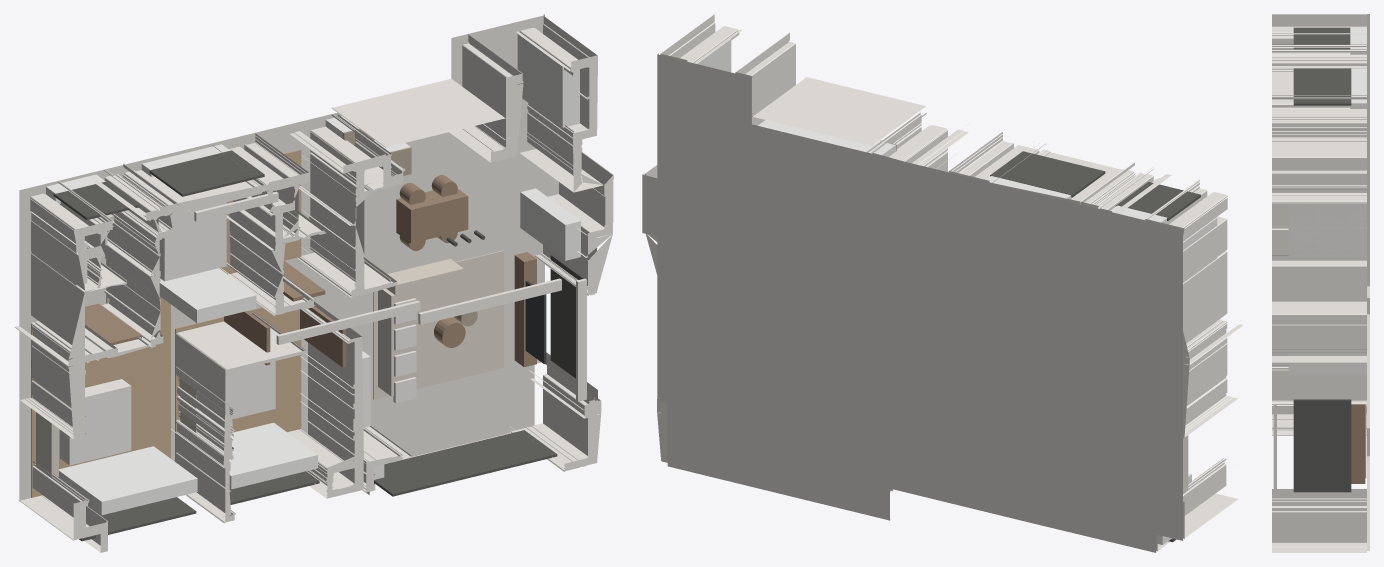
File: House_Mobile_FINAL.glb
3 views of the same model, side by side, from view 1: azimuth 30°, elevation 25°; view 2: azimuth 150°, elevation 25°; view 3: azimuth 270°, elevation 25° (orthographic). The views are drawn at different scales.
Visible parts, largest first — view 1: FLOOR_SLAB, WALL_TRACE_5, WALL_TRACE_4, WALL_TRACE_7, WALL_TRACE_3, WALL_TRACE_9, WALL_TRACE_6, WALL_TRACE_0, RUG, WOOD_LEFT, WARD_LEFT, WIN_BALCONY (+33 smaller); view 2: FLOOR_SLAB, WALL_TRACE_4, WALL_TRACE_7, WALL_TRACE_5, WIN_MAIN, WALL_TRACE_6, WALL_TRACE_8, WALL_TRACE_3, WIN_SMALL, KITCHEN_TOP; view 3: WALL_TRACE_3, WALL_TRACE_2, WALL_TRACE_5, WIN_LIVING, WALL_TRACE_7, ENTRY_CAB, WIN_MAIN, WALL_TRACE_4, FLOOR_SLAB, HOUSEKEEPING, WIN_SMALL, TV_CONSOLE (+6 smaller).
Boxes of the visible parts, x1=… form: FLOOR_SLAB: x1=18, y1=14, x2=558, y2=501; WALL_TRACE_5: x1=87, y1=133, x2=325, y2=347; WALL_TRACE_4: x1=14, y1=181, x2=149, y2=439; WALL_TRACE_7: x1=332, y1=34, x2=523, y2=162; WALL_TRACE_3: x1=516, y1=16, x2=613, y2=295; WALL_TRACE_9: x1=171, y1=311, x2=305, y2=523; WALL_TRACE_6: x1=289, y1=114, x2=405, y2=297; WALL_TRACE_0: x1=287, y1=301, x2=363, y2=498; RUG: x1=373, y1=250, x2=503, y2=399; WOOD_LEFT: x1=31, y1=296, x2=170, y2=497; WARD_LEFT: x1=58, y1=446, x2=197, y2=515; WIN_BALCONY: x1=374, y1=430, x2=557, y2=496; FLOOR_SLAB: x1=642, y1=53, x2=1183, y2=552; WALL_TRACE_4: x1=1144, y1=179, x2=1243, y2=437; WALL_TRACE_7: x1=735, y1=32, x2=926, y2=146; WALL_TRACE_5: x1=948, y1=132, x2=1171, y2=213; WIN_MAIN: x1=990, y1=151, x2=1105, y2=197; WALL_TRACE_6: x1=866, y1=112, x2=968, y2=171; WALL_TRACE_8: x1=1156, y1=458, x2=1238, y2=551; WALL_TRACE_3: x1=644, y1=14, x2=741, y2=274; WIN_SMALL: x1=1115, y1=182, x2=1200, y2=220; KITCHEN_TOP: x1=758, y1=120, x2=895, y2=156; WALL_TRACE_3: x1=1272, y1=185, x2=1366, y2=404; WALL_TRACE_2: x1=1272, y1=489, x2=1366, y2=552; WALL_TRACE_5: x1=1272, y1=44, x2=1366, y2=130; WIN_LIVING: x1=1293, y1=399, x2=1351, y2=492; WALL_TRACE_7: x1=1272, y1=141, x2=1366, y2=184; ENTRY_CAB: x1=1288, y1=204, x2=1366, y2=256; WIN_MAIN: x1=1293, y1=68, x2=1351, y2=105; WALL_TRACE_4: x1=1272, y1=14, x2=1366, y2=44; FLOOR_SLAB: x1=1367, y1=14, x2=1369, y2=550; HOUSEKEEPING: x1=1288, y1=353, x2=1366, y2=374; WIN_SMALL: x1=1293, y1=27, x2=1350, y2=49; TV_CONSOLE: x1=1351, y1=404, x2=1365, y2=483.
Bounding box in the file's own units: 15.8 × 11.33 × 2.8.
